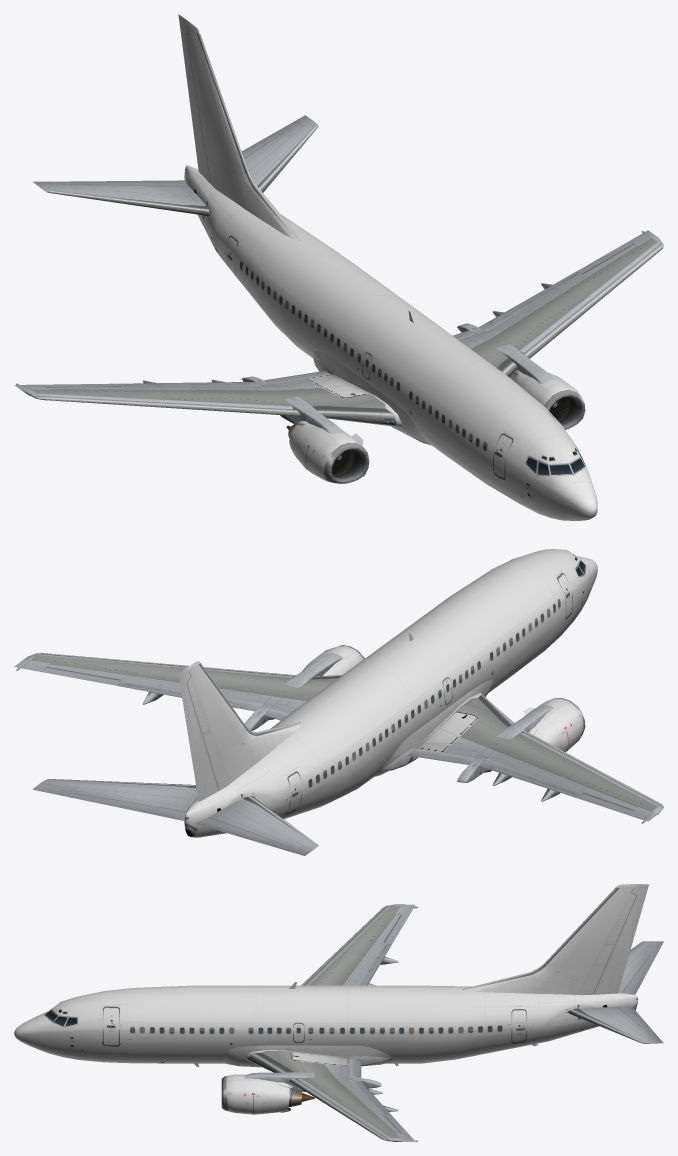
Rendered from boeing_737-300.glb.
3 views of the same model, one above another, from view 1: azimuth 30°, elevation 25°; view 2: azimuth 150°, elevation 25°; view 3: azimuth 270°, elevation 25° (orthographic). The views are drawn at different scales.
Visible parts, largest first — view 1: Object_18; view 2: Object_18; view 3: Object_18.
Boxes of the visible parts, left/top/right/bottom form: Object_18: left=14, top=14, right=663, bottom=520; Object_18: left=14, top=549, right=663, bottom=855; Object_18: left=14, top=884, right=663, bottom=1141.
Bounding box in the file's own units: 28.88 × 10.64 × 33.52.
Materials: 2 (1 with a texture image).
